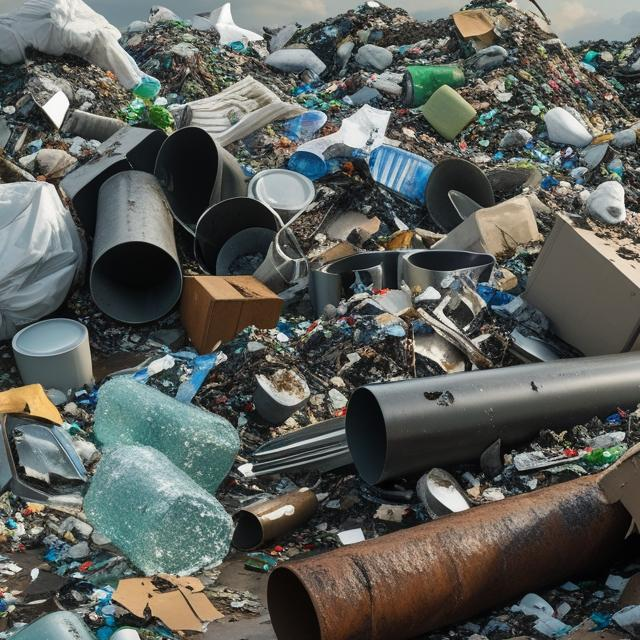plastic: (0, 170, 85, 314)
